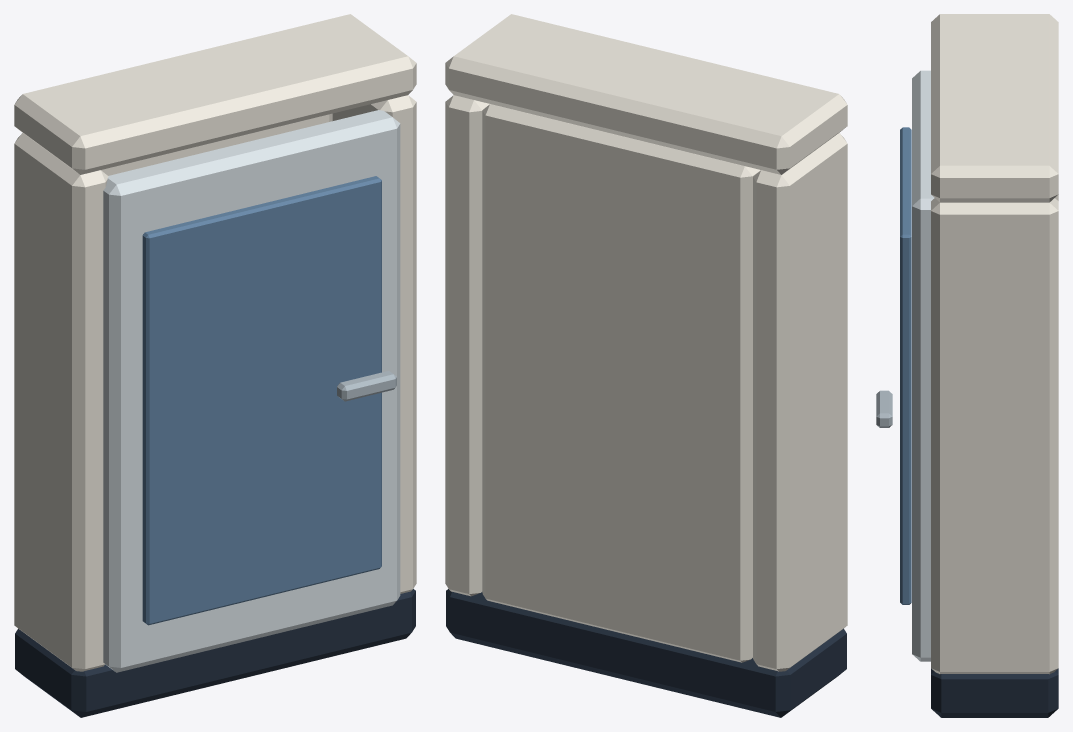
Rendered from architecture_11.glb.
3 views of the same model, side by side, from view 1: azimuth 30°, elevation 25°; view 2: azimuth 150°, elevation 25°; view 3: azimuth 270°, elevation 25° (orthographic). The views are drawn at different scales.
Parts seen in each view (by area): view 1: InsetPanel, DoorPanel, Side (×2), Top, Base, Back, Handle; view 2: Back, Side (×2), Top, Base; view 3: Side, Top, DoorPanel, InsetPanel, Base, Handle.
Part boxes in pixels (x1=…): InsetPanel: x1=142, y1=176, x2=381, y2=625; DoorPanel: x1=103, y1=110, x2=400, y2=672; Side (×2): x1=14, y1=95, x2=416, y2=671; Top: x1=14, y1=14, x2=416, y2=174; Base: x1=15, y1=589, x2=415, y2=717; Back: x1=101, y1=113, x2=332, y2=175; Handle: x1=337, y1=371, x2=396, y2=401; Back: x1=482, y1=104, x2=760, y2=662; Side (×2): x1=445, y1=95, x2=847, y2=671; Top: x1=445, y1=14, x2=847, y2=174; Base: x1=446, y1=589, x2=846, y2=717; Side: x1=931, y1=198, x2=1058, y2=674; Top: x1=931, y1=14, x2=1058, y2=202; DoorPanel: x1=912, y1=70, x2=934, y2=661; InsetPanel: x1=900, y1=127, x2=911, y2=604; Base: x1=931, y1=668, x2=1058, y2=717; Handle: x1=876, y1=390, x2=892, y2=427.
Size of the model in its own units: 0.65 by 1.05 by 0.314.
